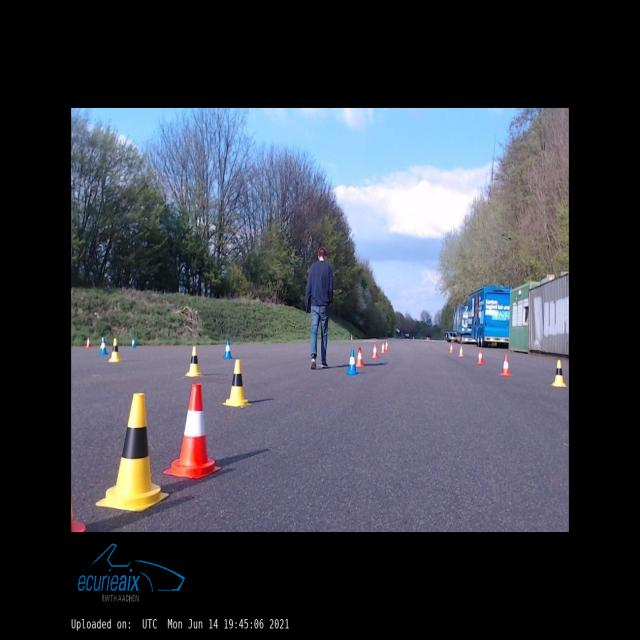blue_cone: (346, 349, 358, 375), (223, 339, 232, 359), (99, 337, 107, 355), (131, 338, 136, 348)
orange_cone: (164, 383, 222, 479), (501, 354, 511, 376), (356, 348, 364, 366), (476, 348, 484, 364), (372, 344, 378, 358), (458, 346, 464, 356), (86, 336, 91, 347), (381, 342, 385, 353), (449, 344, 453, 352), (385, 342, 388, 350)
yellow_cone: (96, 393, 169, 511), (222, 360, 252, 406), (185, 346, 203, 376), (551, 360, 567, 387), (108, 338, 120, 362)
